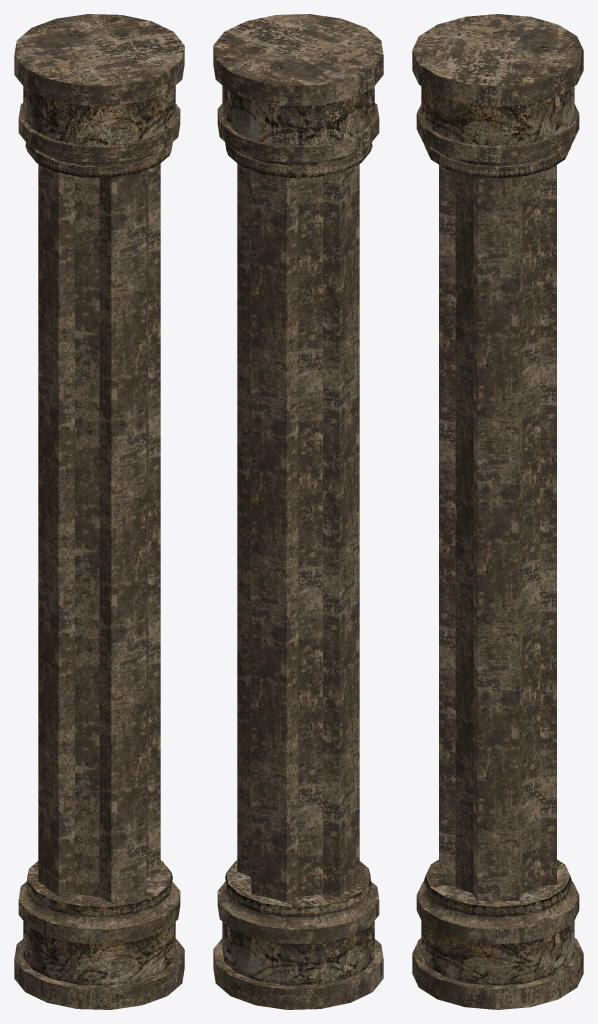
The model's file is materials_5_pillar_long_9.fbx.
The picture shows the model from 3 angles, left to right: view 1: azimuth 30°, elevation 25°; view 2: azimuth 150°, elevation 25°; view 3: azimuth 270°, elevation 25°; orthographic projection.
Parts seen in each view (by area): view 1: materials_5_pillar_long_9; view 2: materials_5_pillar_long_9; view 3: materials_5_pillar_long_9.
Part boxes in pixels (<box>): materials_5_pillar_long_9: <box>14,14,184,1009</box>; materials_5_pillar_long_9: <box>213,14,383,1009</box>; materials_5_pillar_long_9: <box>412,14,583,1009</box>.
Size of the model in its own units: 76.04 by 452 by 76.04.
